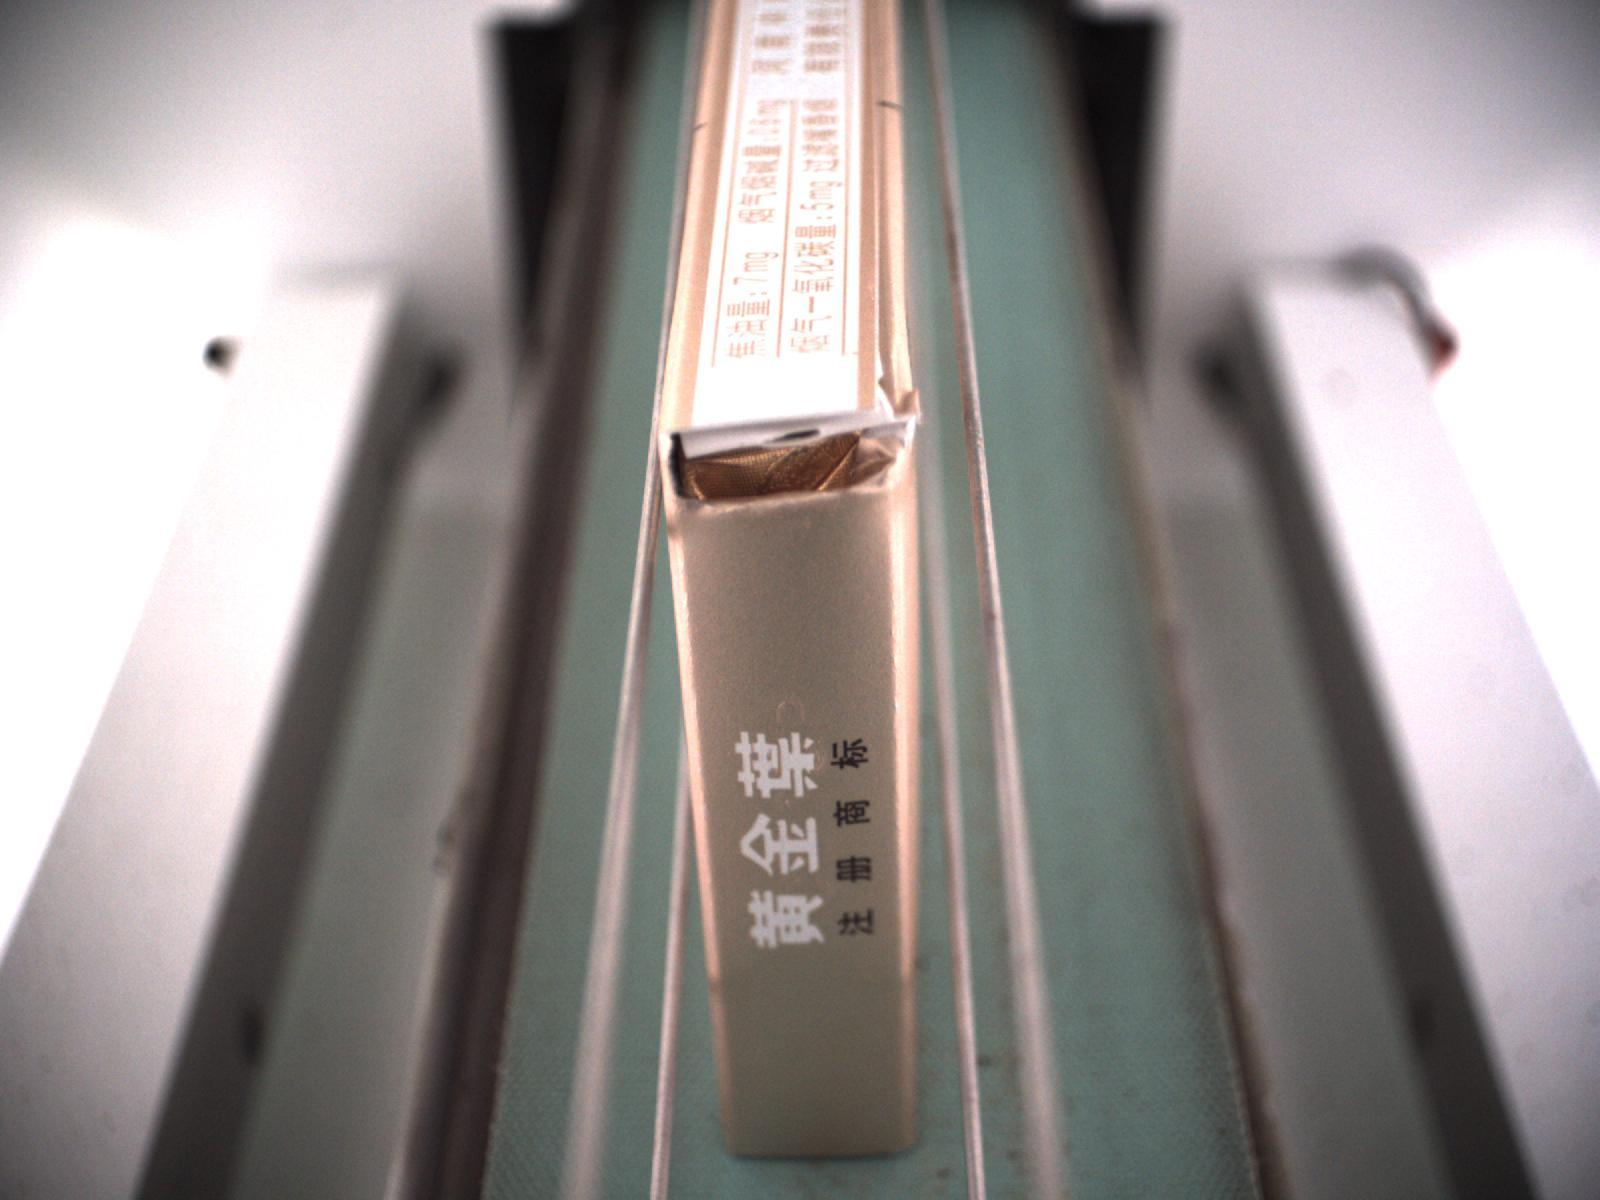headOpen_upper: (658, 392, 924, 523)
